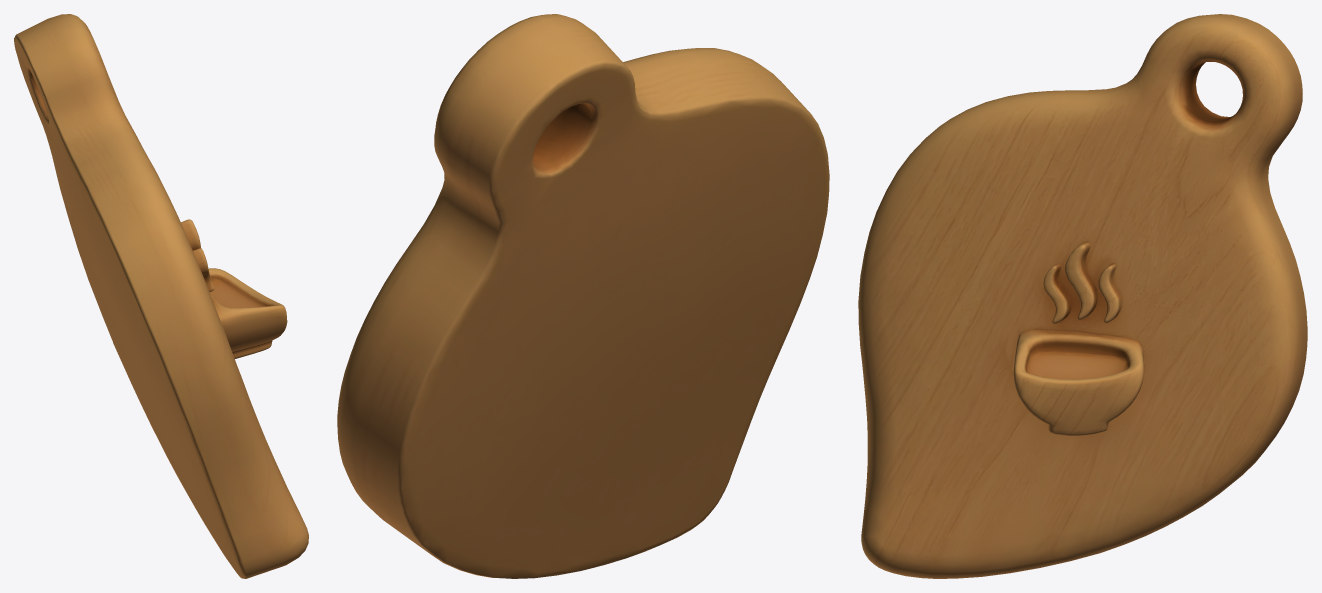
File: thanks-leaf.glb
3 views of the same model, side by side, from view 1: azimuth 30°, elevation 25°; view 2: azimuth 150°, elevation 25°; view 3: azimuth 270°, elevation 25° (orthographic). The views are drawn at different scales.
Parts seen in each view (by area): view 1: tripo_node_5d65520f-37f2-4f0c-b914-a3986af5dc4b; view 2: tripo_node_5d65520f-37f2-4f0c-b914-a3986af5dc4b; view 3: tripo_node_5d65520f-37f2-4f0c-b914-a3986af5dc4b.
Part boxes in pixels (left/top/right/bottom): tripo_node_5d65520f-37f2-4f0c-b914-a3986af5dc4b: left=14, top=14, right=308, bottom=578; tripo_node_5d65520f-37f2-4f0c-b914-a3986af5dc4b: left=337, top=14, right=829, bottom=578; tripo_node_5d65520f-37f2-4f0c-b914-a3986af5dc4b: left=858, top=14, right=1307, bottom=578.
Bounding box in the file's own units: 0.4576 × 0.9995 × 0.778.
1 material, 1 textured.
